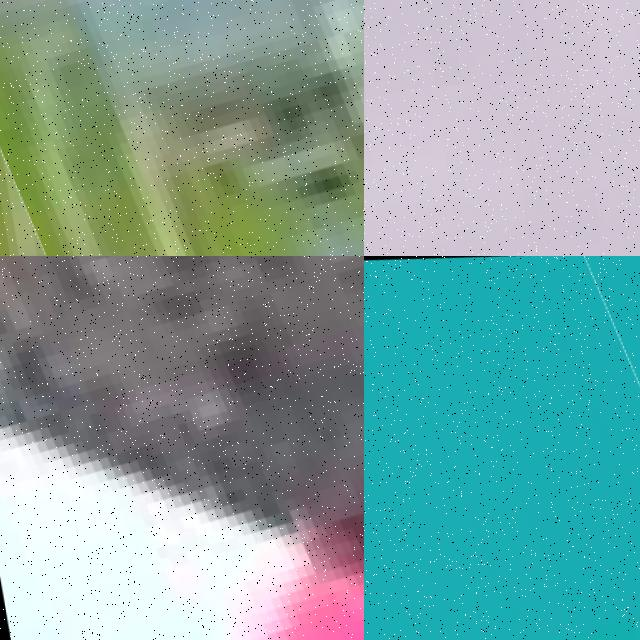0: (0, 256, 364, 640), (0, 0, 364, 256)
drone: (364, 256, 640, 640)
